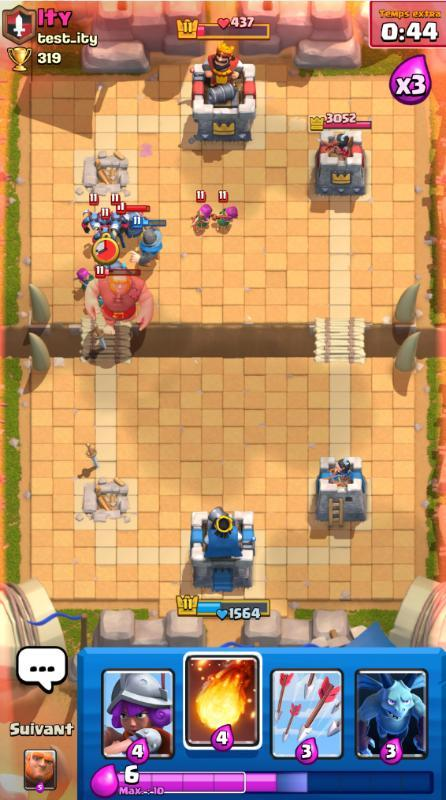archere: (188, 189, 215, 233), (212, 189, 239, 233), (74, 268, 94, 291)
chevalier: (130, 216, 167, 267)
gargouille: (81, 193, 106, 235), (91, 208, 117, 242), (105, 194, 127, 231)
geant: (85, 265, 155, 335)
mini_PEKKA: (116, 202, 151, 249)
